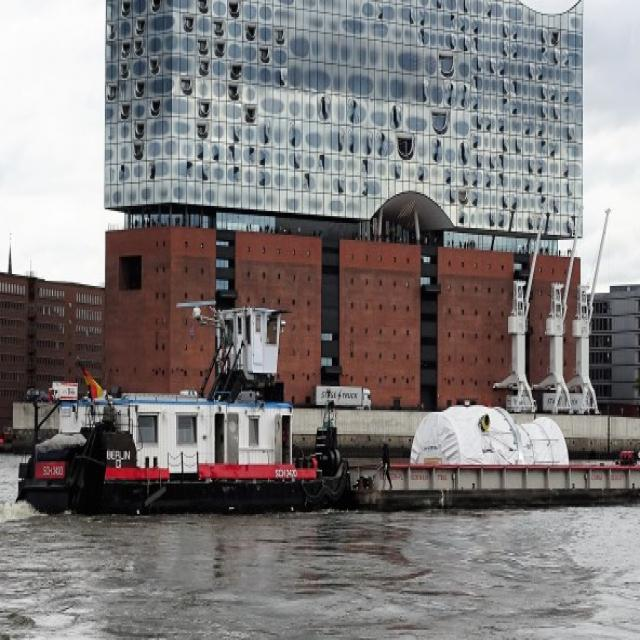tugboat: (14, 291, 351, 531)
